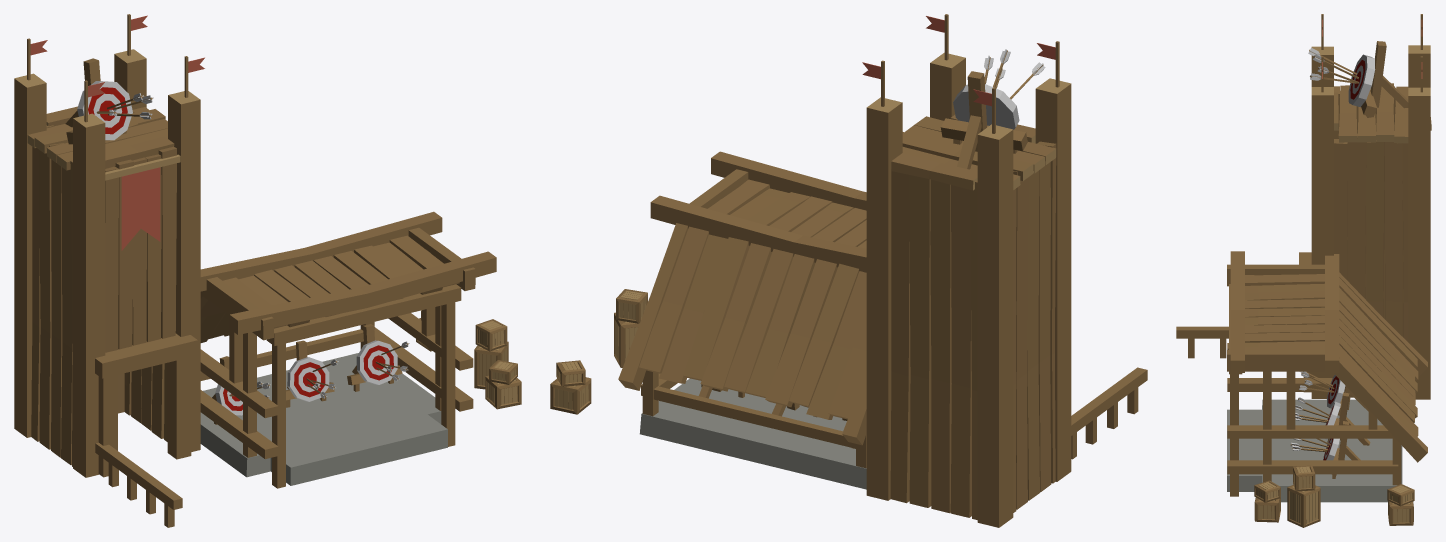
The model's file is Archery_FirstAge_Level2.glb.
3 renders of one model, left to right at view 1: azimuth 30°, elevation 25°; view 2: azimuth 150°, elevation 25°; view 3: azimuth 270°, elevation 25°, orthographic. The views are drawn at different scales.
Visible parts, largest first — view 1: Archery_FirstAge_Level2; view 2: Archery_FirstAge_Level2; view 3: Archery_FirstAge_Level2.
Part boxes in pixels (<box>): Archery_FirstAge_Level2: <box>14,14,521,527</box>; Archery_FirstAge_Level2: <box>550,14,1147,527</box>; Archery_FirstAge_Level2: <box>1176,14,1431,527</box>.
Size of the model in its own units: 1.65 by 1.51 by 1.
